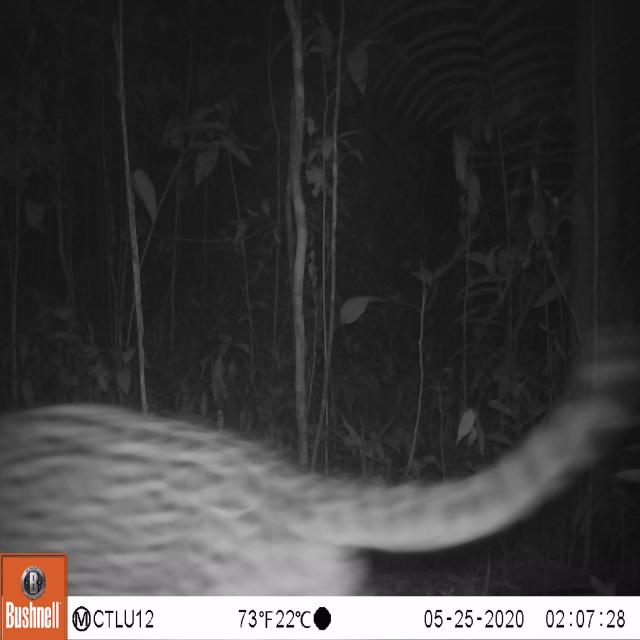Ocelote: (0, 326, 640, 592)
